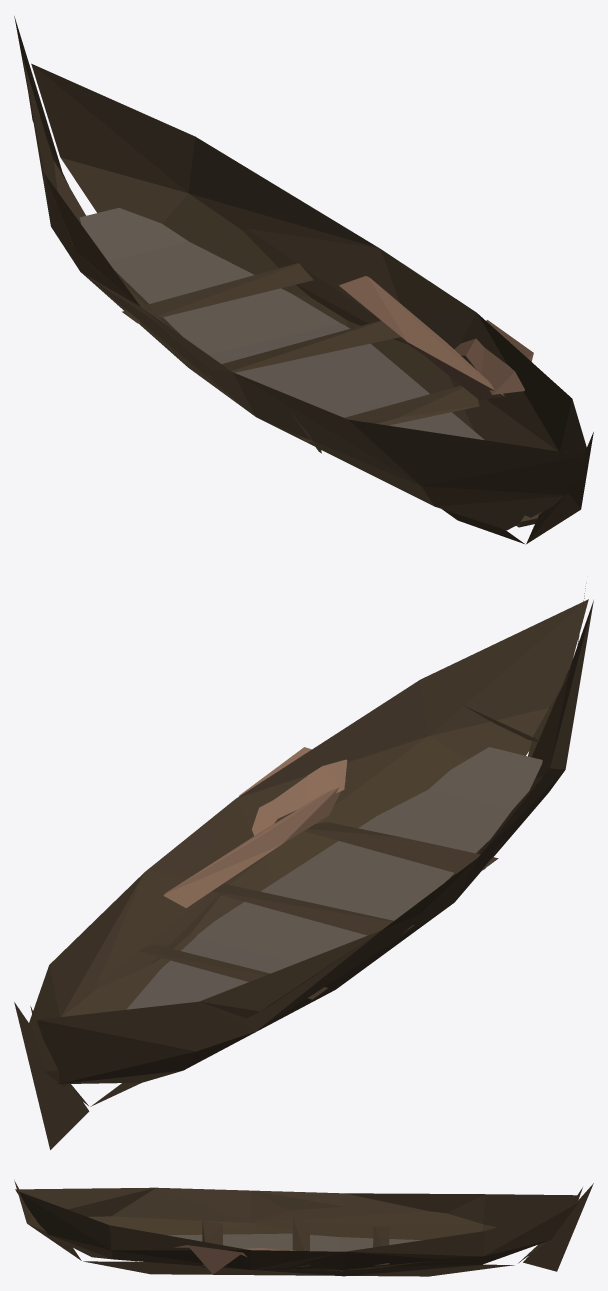
File: oselvar-boat.lod2.glb
The picture shows the model from 3 angles, top to bottom: view 1: azimuth 30°, elevation 25°; view 2: azimuth 150°, elevation 25°; view 3: azimuth 270°, elevation 25°; orthographic projection. The views are drawn at different scales.
Visible parts, largest first — view 1: Oselvar1_Iron_0; view 2: Oselvar1_Iron_0; view 3: Oselvar1_Iron_0.
Boxes of the visible parts, <box> form: Oselvar1_Iron_0: <box>14,16,593,544</box>; Oselvar1_Iron_0: <box>14,583,593,1149</box>; Oselvar1_Iron_0: <box>14,1180,593,1276</box>.
Bounding box in the file's own units: 1.47 × 1.1 × 5.93.
